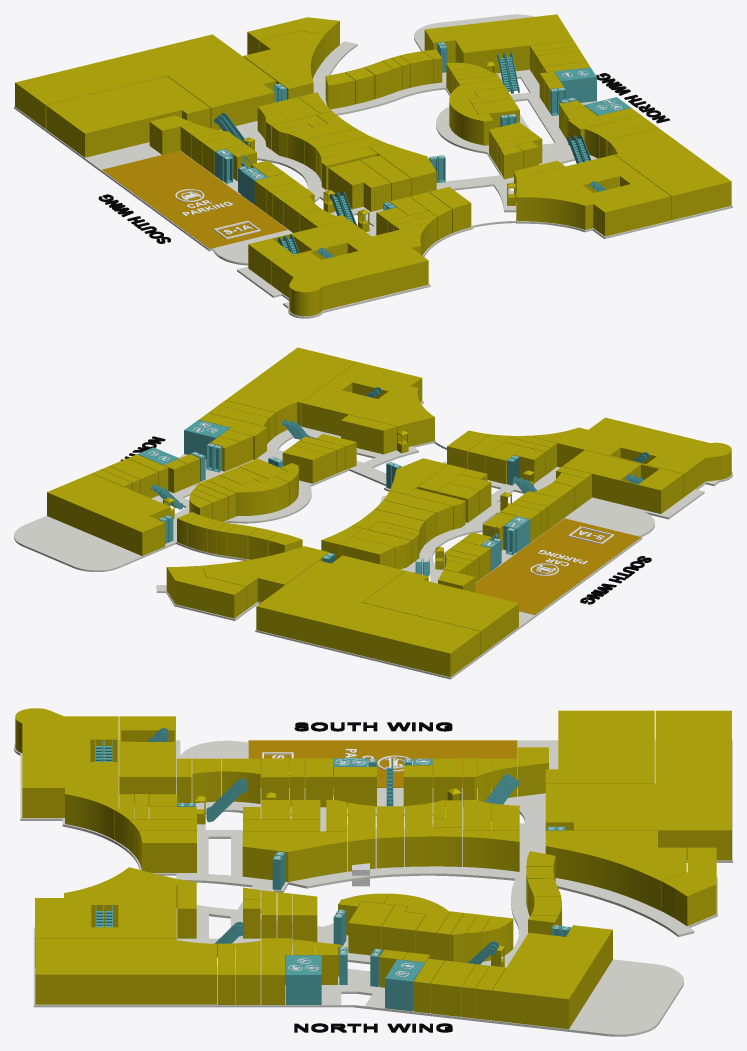
The model's file is floor-1.glb.
3 renders of one model, top to bottom at view 1: azimuth 30°, elevation 25°; view 2: azimuth 150°, elevation 25°; view 3: azimuth 270°, elevation 25°, orthographic. The views are drawn at different scales.
Parts seen in each view (by area): view 1: First floor; view 2: First floor; view 3: First floor.
Boxes of the visible parts, bbox=[...] form: First floor: bbox=[14, 14, 732, 318]; First floor: bbox=[14, 347, 732, 679]; First floor: bbox=[14, 708, 732, 1036].
Bounding box in the file's own units: 81.77 × 5.77 × 79.48.
